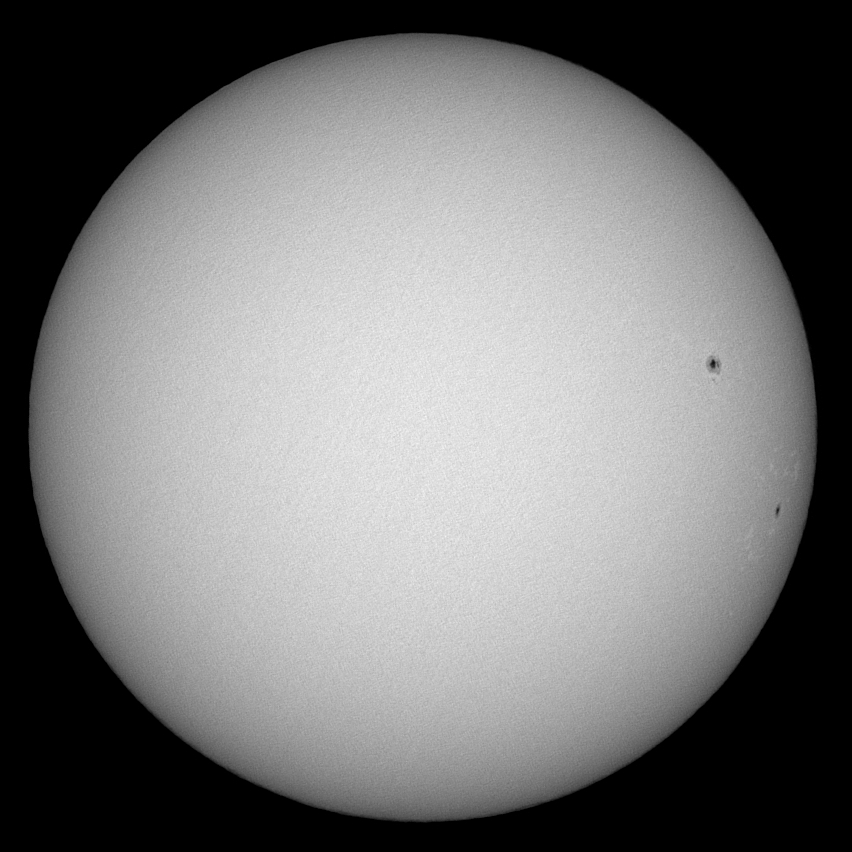sunspot: (703, 351, 725, 380), (772, 500, 786, 521)
